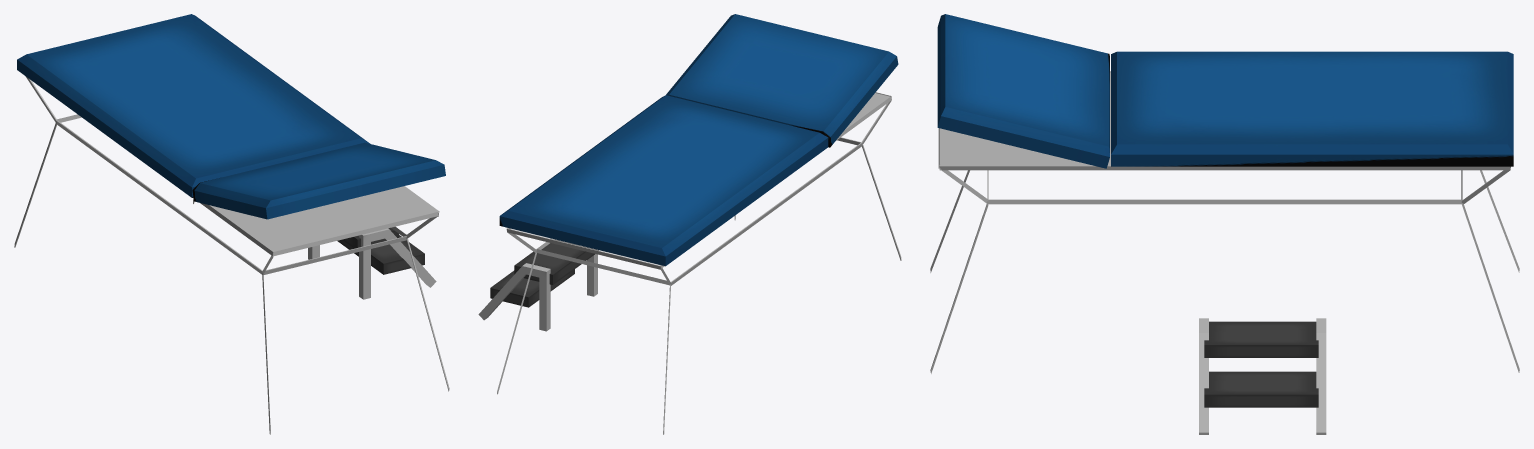
Rendered from camillas.FBX.
The picture shows the model from 3 angles, left to right: view 1: azimuth 30°, elevation 25°; view 2: azimuth 150°, elevation 25°; view 3: azimuth 270°, elevation 25°; orthographic projection. The views are drawn at different scales.
Visible parts, largest first — view 1: Box031, Box033, Plane010, Box032, Line001, Box043; view 2: Box031, Box033, Box032, Line002, Box044, Box043, Plane010; view 3: Box031, Box033, Box032, Box043, Box044, Plane010, Line002, Line001.
Part boxes in pixels (x1,y1,x2,y2): Box031: (17,14,370,197); Box033: (192,142,445,219); Plane010: (209,186,439,251); Box032: (14,76,449,434); Line001: (359,228,436,299); Box043: (337,235,424,274); Box031: (499,95,828,266); Box033: (666,14,898,147); Box032: (497,92,901,434); Line002: (478,263,550,331); Box044: (514,239,598,284); Box043: (490,269,574,307); Plane010: (506,93,889,265); Box031: (1111,51,1513,166); Box033: (937,14,1109,168); Box032: (930,71,1519,373); Box043: (1204,371,1318,407); Box044: (1204,321,1318,357); Plane010: (939,72,1110,166); Line002: (1316,318,1326,434); Line001: (1199,318,1208,434).
Bounding box in the file's own units: 36.97 × 29.18 × 57.86.
